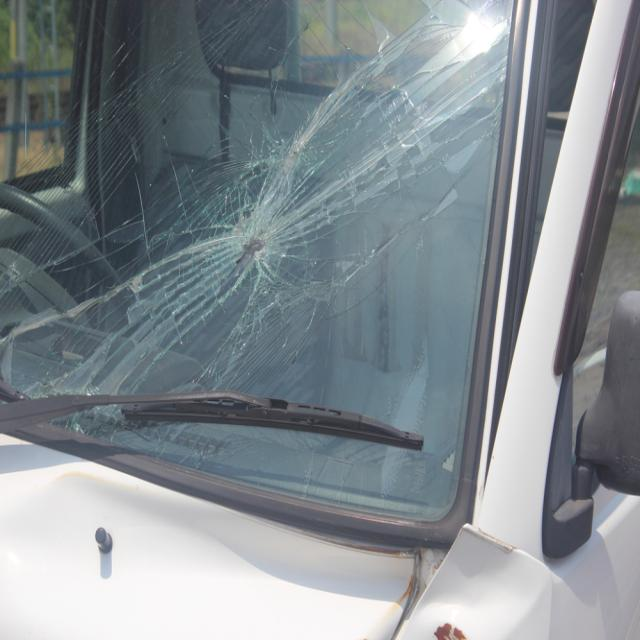Fissure: (0, 0, 514, 518)
